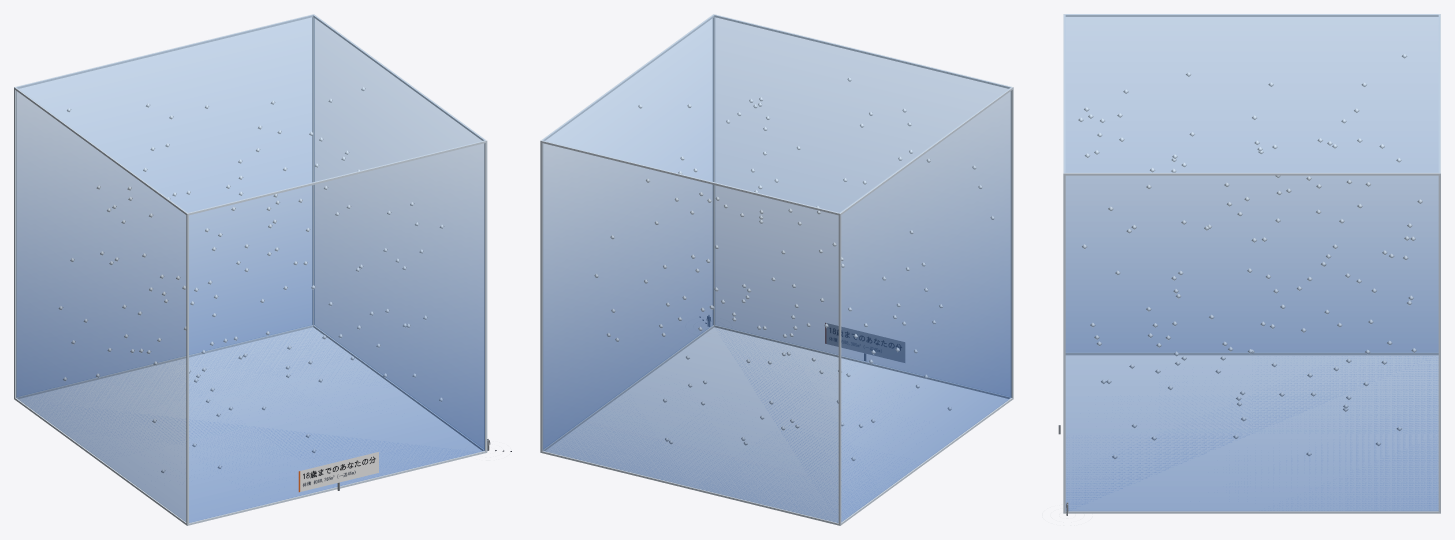
File: cube_life_18.glb
3 renders of one model, left to right at view 1: azimuth 30°, elevation 25°; view 2: azimuth 150°, elevation 25°; view 3: azimuth 270°, elevation 25°, orthographic. The views are drawn at different scales.
Visible parts, largest first — view 1: co2, edge, dots, label; view 2: co2, edge, dots, label; view 3: co2, edge, dots.
Part boxes in pixels (x1,y1,x2,y2): co2: (16,15,484,522); edge: (14,14,487,525); dots: (59,87,444,473); label: (298,452,378,492); co2: (543,15,1011,522); edge: (540,14,1013,525); dots: (594,77,994,461); label: (825,323,904,362); co2: (1064,14,1439,510); edge: (1063,14,1440,513); dots: (1078,53,1422,459).
Size of the model in its own units: 48.24 by 44.54 by 47.34.
Materials: 8 (3 with a texture image).
